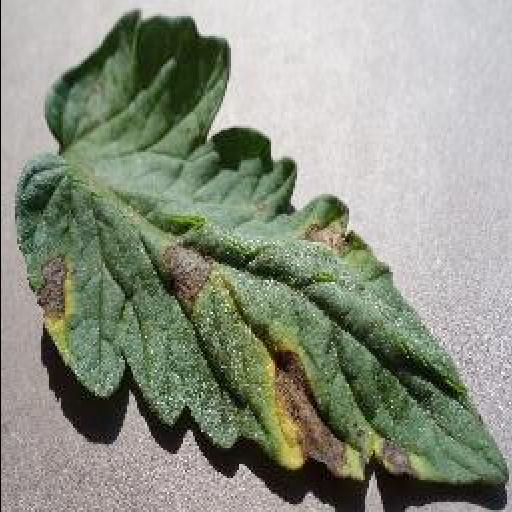disease_tomato: (10, 12, 508, 484)
